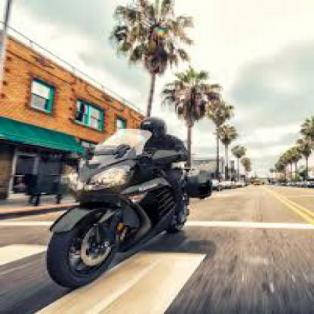Motocicleta: (40, 141, 220, 286)
